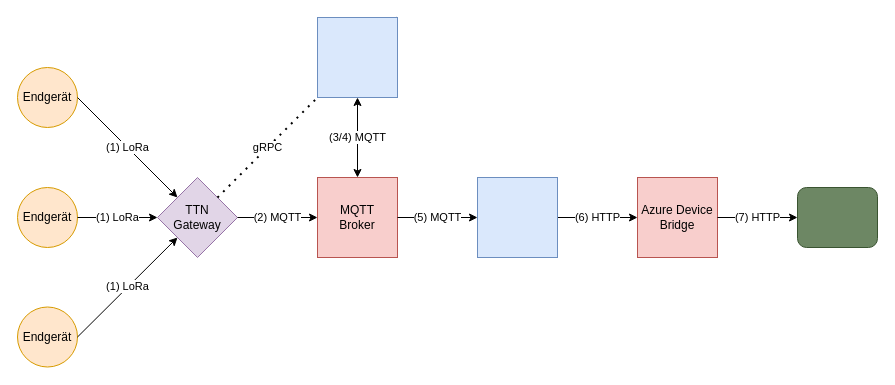
The diagram is 895 pixels wide and 385 high, and some of its shapes have lost their labels. Each missing label, with the centre of its shape:
"Azure IoT Central" belongs at (837,217).
"The Things Application Server" belongs at (517,217).
"The Things Network Server" belongs at (357,57).
